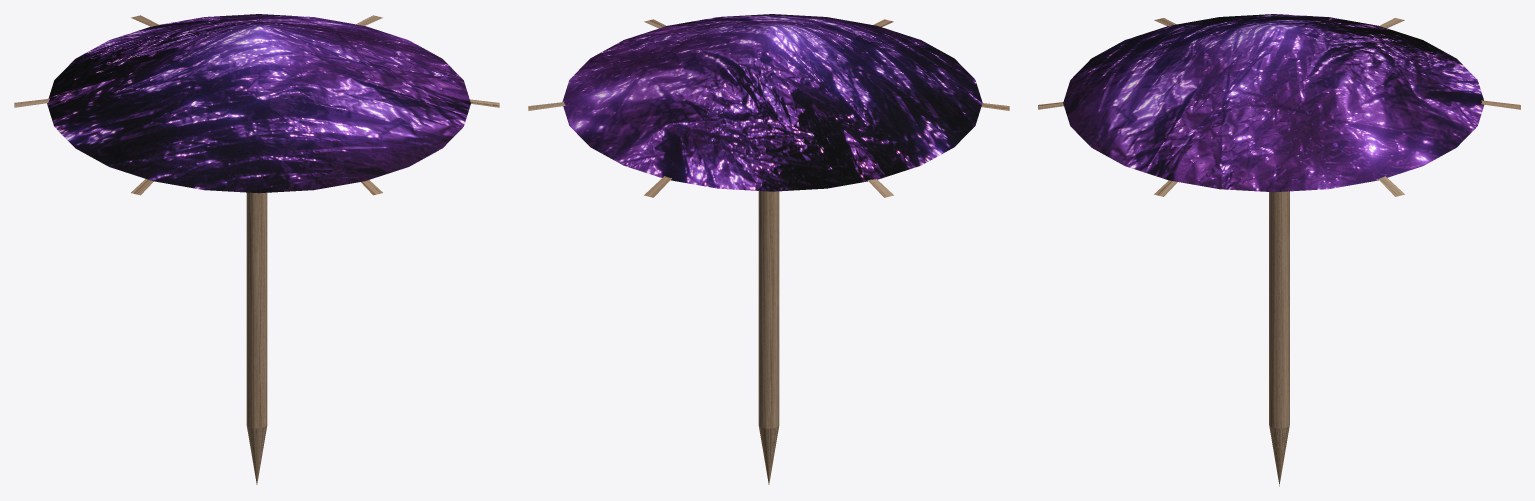
File: Party_umbrella.FBX
3 renders of one model, left to right at view 1: azimuth 30°, elevation 25°; view 2: azimuth 150°, elevation 25°; view 3: azimuth 270°, elevation 25°, orthographic.
Visible parts, largest first — view 1: Cylinder001; view 2: Cylinder001; view 3: Cylinder001.
Part boxes in pixels (x1,y1,x2,y2): Cylinder001: (14, 14, 499, 484); Cylinder001: (528, 14, 1009, 484); Cylinder001: (1038, 14, 1520, 486).
Size of the model in its own units: 20.11 by 24.06 by 22.9.
2 materials, 2 textured.
